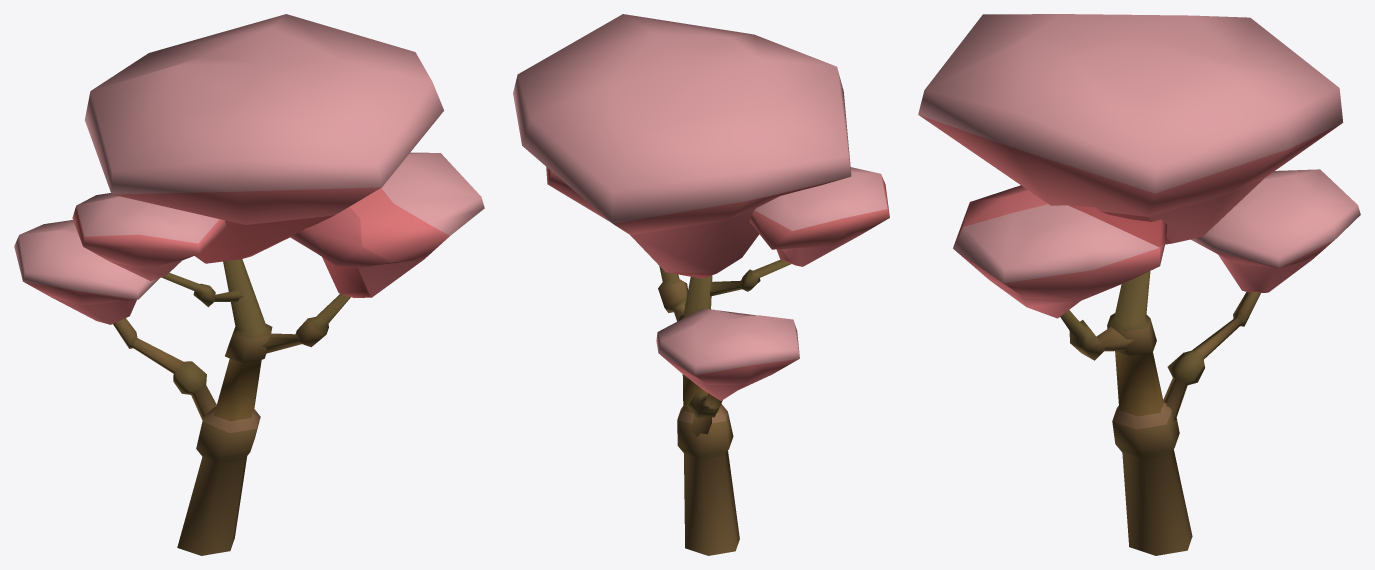
File: AlberoROSA.fbx
The picture shows the model from 3 angles, left to right: view 1: azimuth 30°, elevation 25°; view 2: azimuth 150°, elevation 25°; view 3: azimuth 270°, elevation 25°; orthographic projection. The views are drawn at different scales.
Parts seen in each view (by area): view 1: TreePinkA; view 2: TreePinkA; view 3: TreePinkA.
Boxes of the visible parts, bbox=[...] form: TreePinkA: bbox=[14, 14, 484, 555]; TreePinkA: bbox=[513, 14, 889, 555]; TreePinkA: bbox=[918, 14, 1360, 555].
Size of the model in its own units: 303 by 382 by 287.
